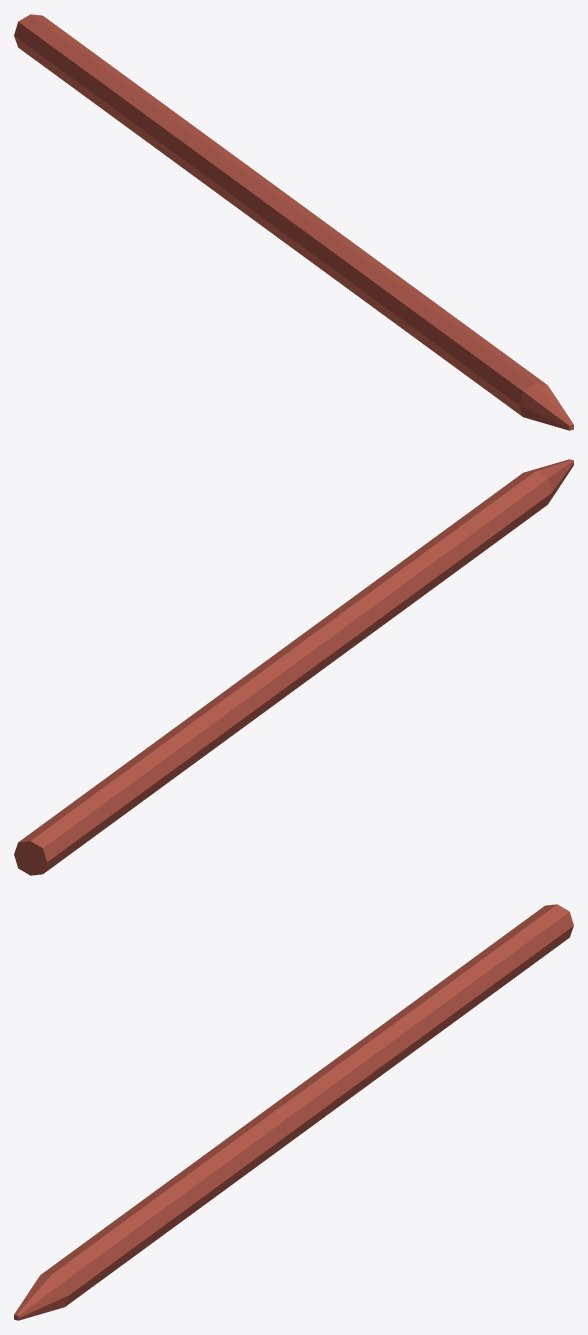
File: arrow.fbx
3 renders of one model, top to bottom at view 1: azimuth 30°, elevation 25°; view 2: azimuth 150°, elevation 25°; view 3: azimuth 330°, elevation 25°, orthographic.
Parts seen in each view (by area): view 1: Arrow; view 2: Arrow; view 3: Arrow.
Boxes of the visible parts, x1=… form: Arrow: x1=14, y1=14, x2=573, y2=430; Arrow: x1=14, y1=459, x2=573, y2=875; Arrow: x1=14, y1=904, x2=573, y2=1320.
Size of the model in its own units: 4.06 by 4.06 by 115.
